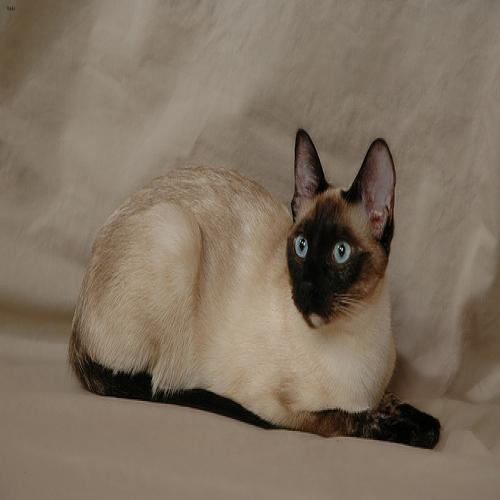siamese: (280, 116, 408, 347)
